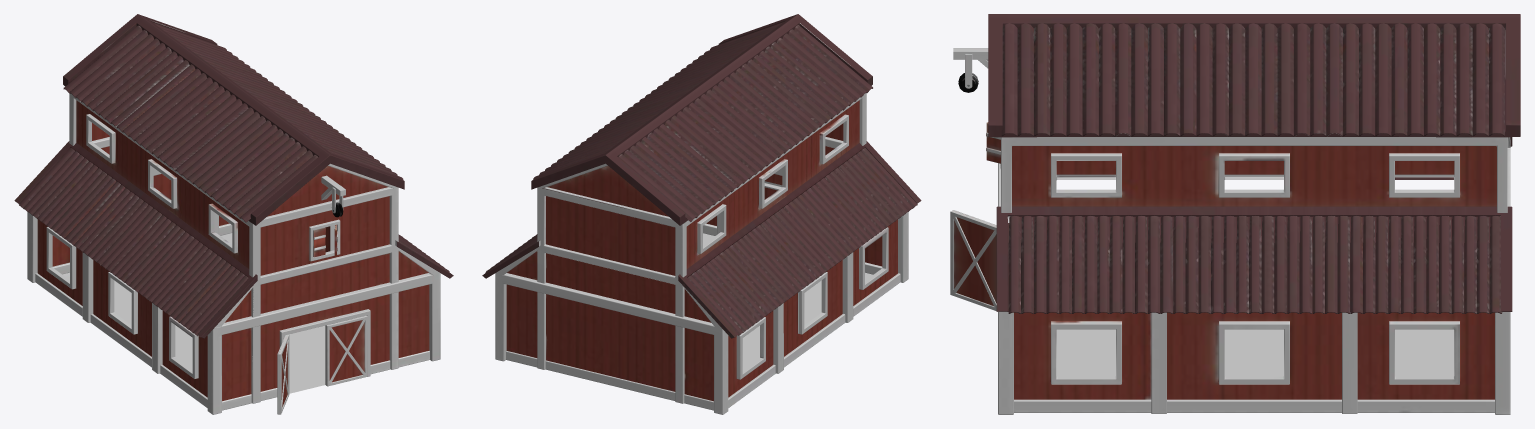
Rendered from barn.gltf.
3 views of the same model, side by side, from view 1: azimuth 30°, elevation 25°; view 2: azimuth 150°, elevation 25°; view 3: azimuth 270°, elevation 25° (orthographic). The views are drawn at different scales.
Parts seen in each view (by area): view 1: Barn_001; view 2: Barn_001; view 3: Barn_001.
Boxes of the visible parts, x1=… form: Barn_001: x1=14, y1=14, x2=453, y2=414; Barn_001: x1=482, y1=14, x2=921, y2=414; Barn_001: x1=950, y1=14, x2=1520, y2=414.
Bounding box in the file's own units: 3.21 × 2.82 × 4.5.
Materials: 1 (1 with a texture image).
